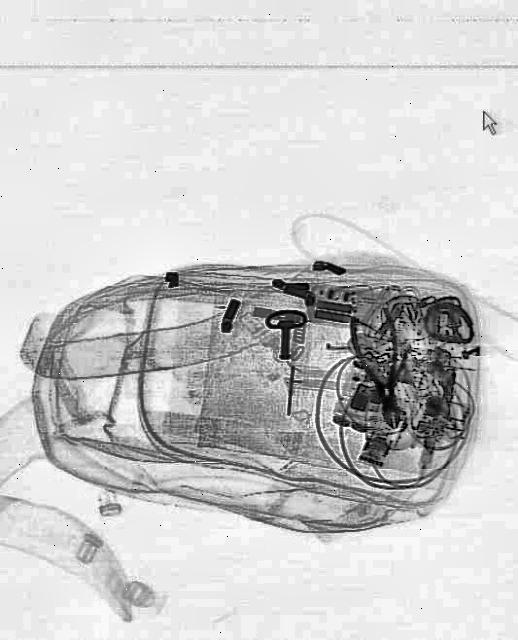Pliers: (345, 305, 416, 435)
